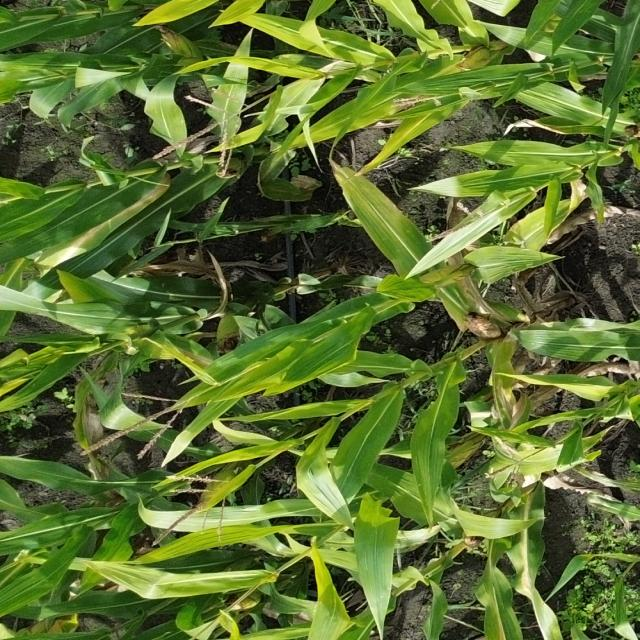gray-leaf-spot: (316, 600, 344, 628)
northern-leaf-blight: (54, 222, 100, 263), (487, 598, 527, 640), (159, 337, 214, 366), (513, 532, 539, 592), (498, 384, 533, 426)
